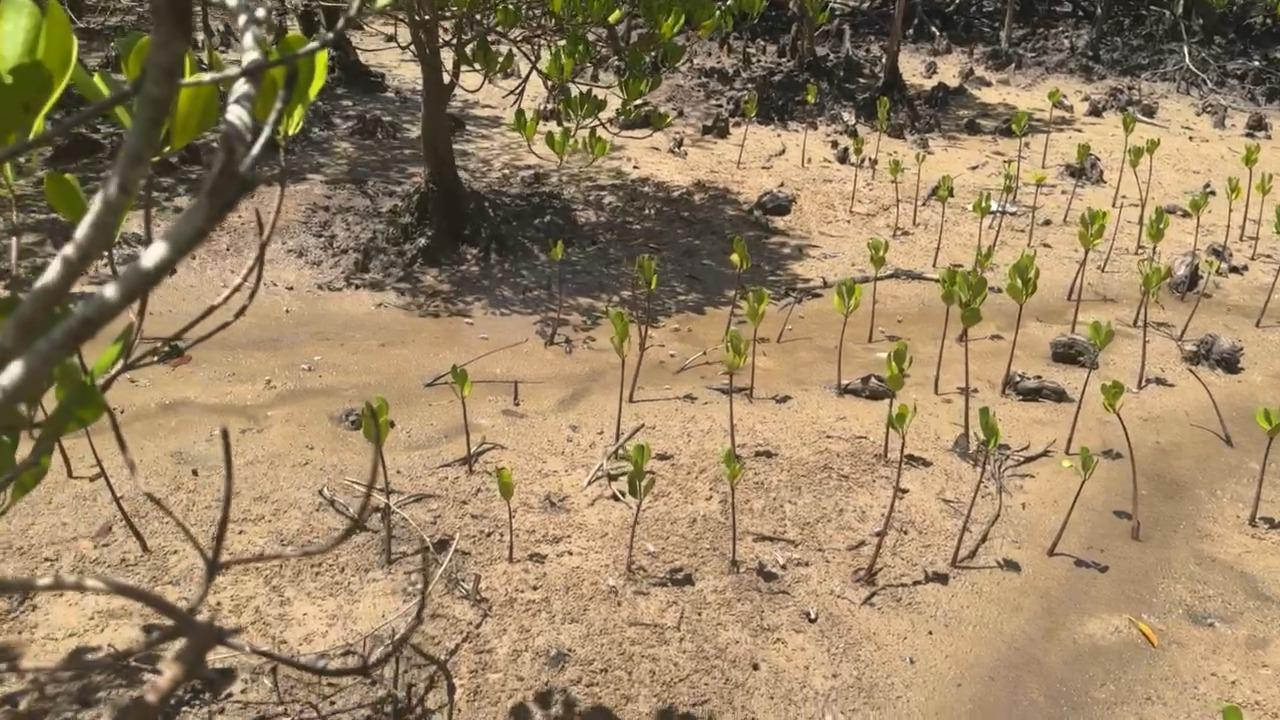Tree: (861, 400, 919, 578), (950, 405, 1003, 565), (1065, 320, 1118, 452), (952, 266, 989, 446), (360, 396, 398, 563), (1100, 378, 1140, 536), (1047, 447, 1102, 559), (1001, 247, 1041, 394), (625, 254, 660, 401), (1071, 208, 1111, 332), (1131, 206, 1169, 327), (1139, 263, 1173, 387), (878, 342, 914, 455), (623, 442, 655, 569), (933, 268, 965, 393), (608, 308, 634, 459), (1248, 408, 1280, 528), (958, 245, 996, 340), (1179, 191, 1210, 305), (833, 279, 865, 388), (719, 448, 748, 564), (1189, 370, 1232, 447), (1134, 139, 1162, 255), (1178, 259, 1216, 342), (724, 328, 750, 449), (742, 287, 770, 398), (724, 236, 755, 332), (449, 365, 475, 471), (1062, 141, 1095, 222), (543, 241, 568, 347), (1216, 175, 1242, 276), (866, 239, 891, 340), (1238, 142, 1263, 242), (1110, 114, 1136, 207), (1250, 172, 1275, 261), (930, 174, 954, 266), (1008, 110, 1032, 200), (990, 175, 1017, 248), (968, 190, 993, 267), (1040, 86, 1063, 169), (497, 467, 517, 561), (868, 98, 890, 180), (736, 89, 759, 166), (847, 138, 868, 215), (1255, 266, 1280, 330), (1101, 199, 1123, 271), (800, 86, 820, 165), (1125, 146, 1144, 225), (1029, 169, 1047, 248), (889, 159, 906, 235), (910, 152, 927, 226), (776, 300, 801, 345), (1069, 252, 1087, 300), (1221, 705, 1242, 720)
